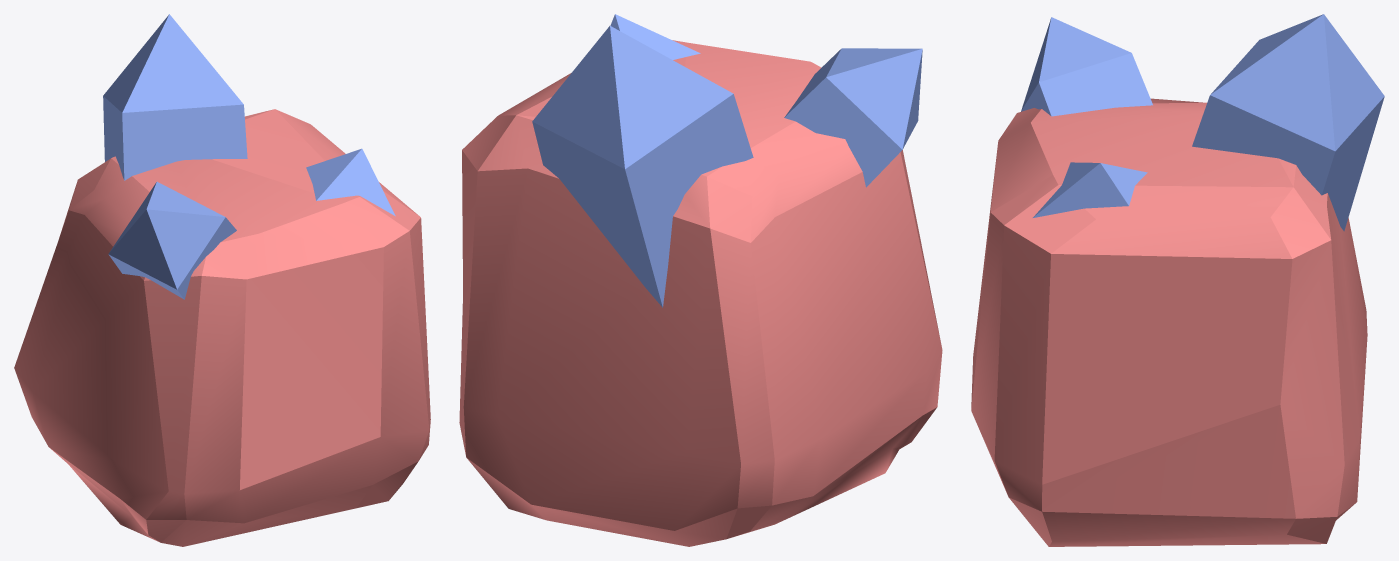
File: m_blocCristaux3.FBX
The picture shows the model from 3 angles, left to right: view 1: azimuth 30°, elevation 25°; view 2: azimuth 150°, elevation 25°; view 3: azimuth 270°, elevation 25°; orthographic projection. The views are drawn at different scales.
Parts seen in each view (by area): view 1: m_blocCristaux001; view 2: m_blocCristaux001; view 3: m_blocCristaux001.
Boxes of the visible parts, box(x1,y1,x2,y2) form: m_blocCristaux001: box(14, 14, 430, 546); m_blocCristaux001: box(459, 14, 942, 546); m_blocCristaux001: box(971, 14, 1384, 546).
Size of the model in its own units: 34.47 by 46.59 by 36.01.
